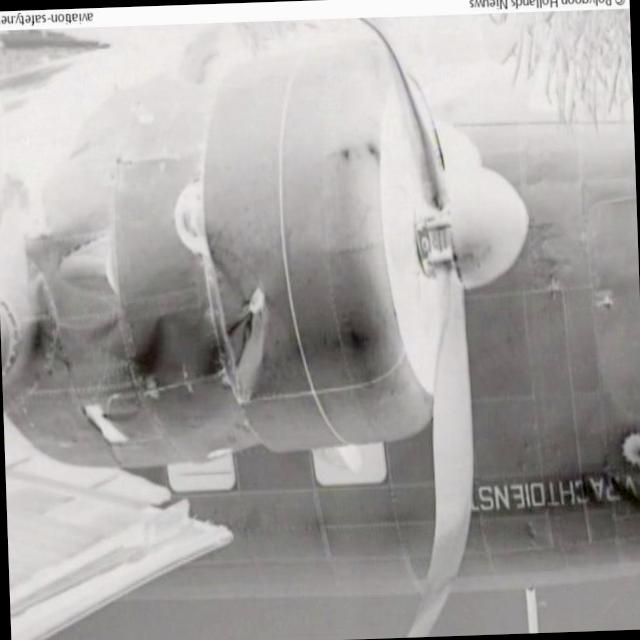dent: (230, 300, 276, 367)
